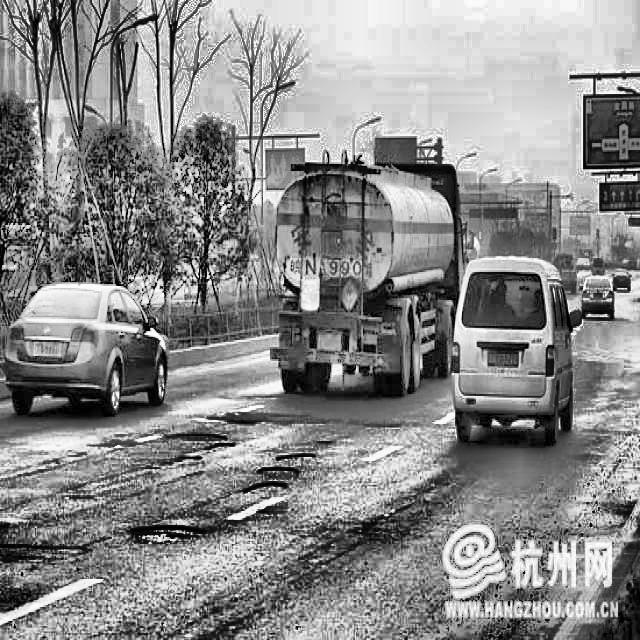buraco: (132, 525, 204, 551), (350, 416, 406, 434), (167, 430, 234, 444), (260, 460, 302, 480), (251, 480, 290, 498), (217, 414, 264, 426), (254, 394, 286, 402)
